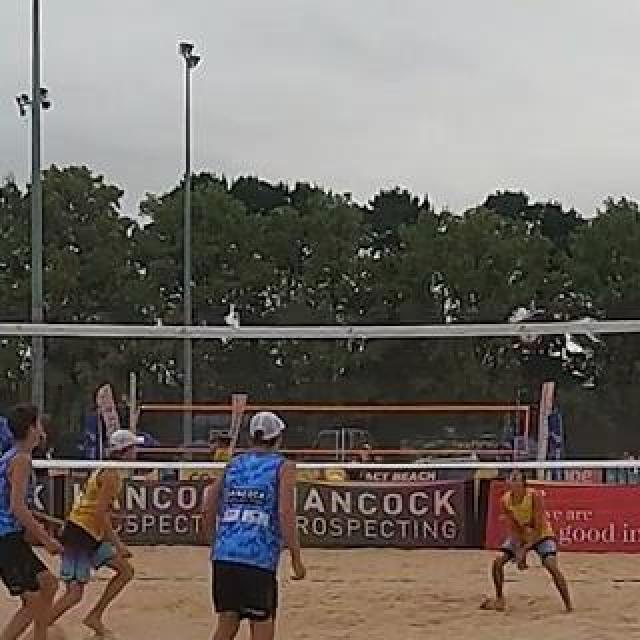volleyball: (519, 322, 543, 346)
